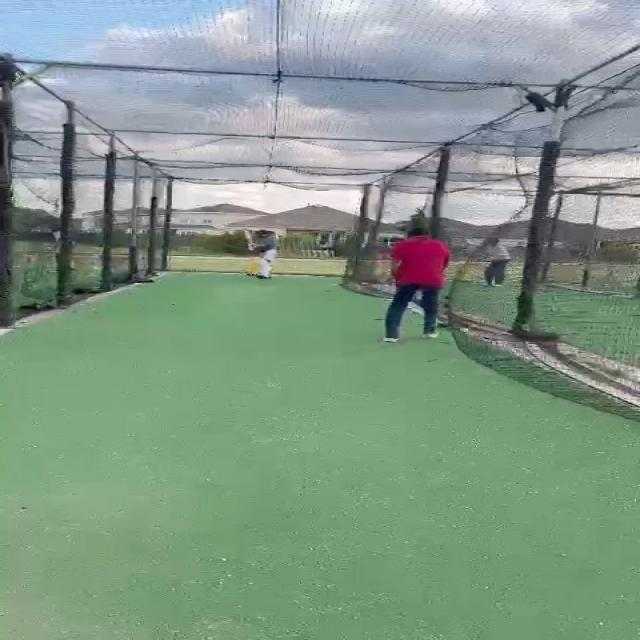batsman: (242, 228, 282, 280)
